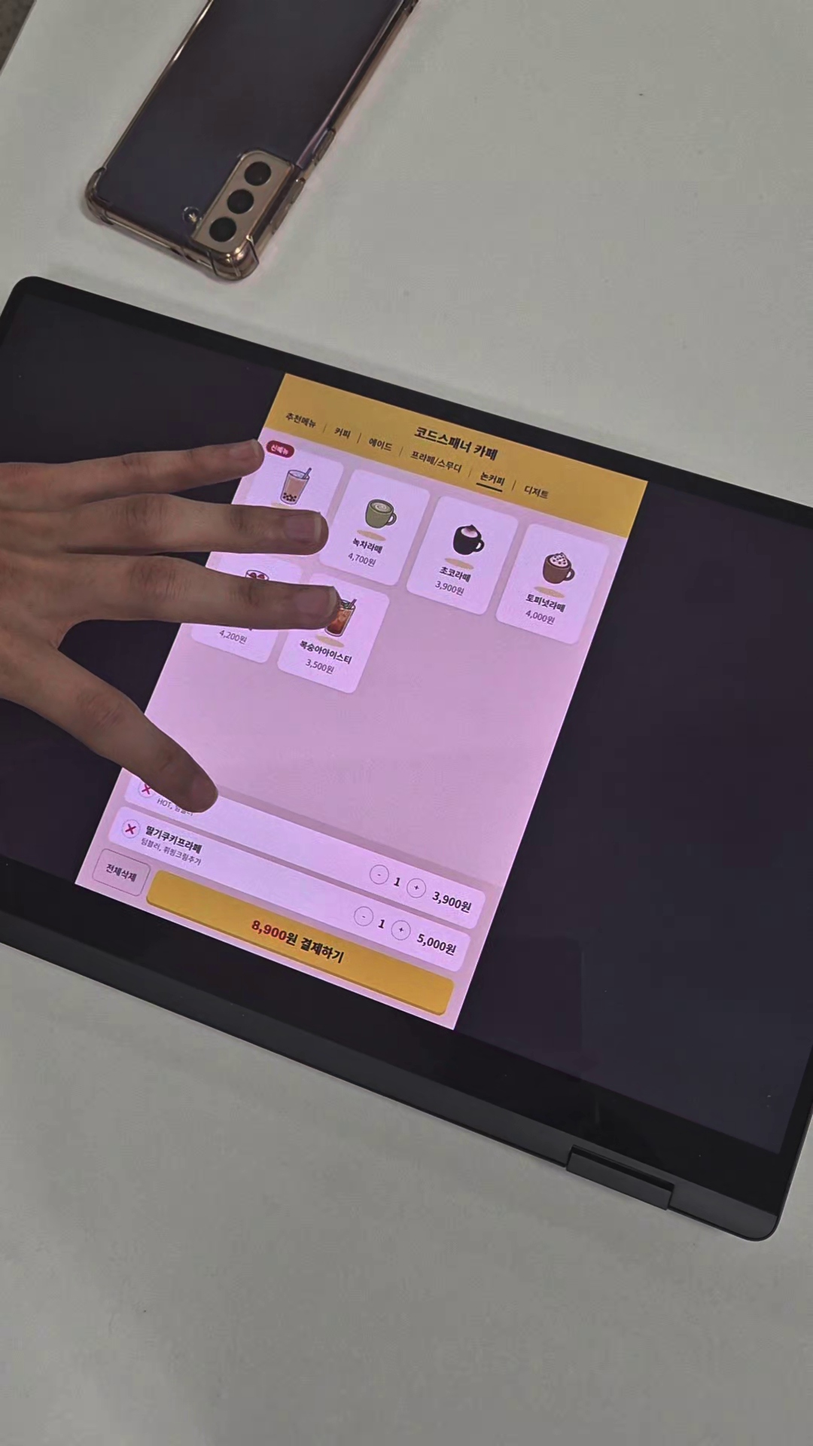action_button: (141, 868, 457, 1020), (91, 847, 151, 897)
cart_item: (101, 801, 473, 976)
category_tab: (406, 448, 465, 478), (276, 404, 323, 436), (475, 468, 509, 490), (363, 433, 396, 455), (521, 482, 552, 503), (327, 423, 355, 443)
menu_back: (492, 520, 612, 651), (272, 570, 394, 698), (401, 494, 522, 618), (316, 465, 433, 590)
menu_name: (297, 636, 358, 669), (522, 590, 571, 617), (435, 561, 476, 586), (349, 535, 385, 557)
menu_price: (410, 928, 460, 960), (429, 889, 475, 918), (431, 577, 468, 599), (302, 656, 338, 678), (521, 606, 558, 627), (344, 549, 378, 569), (215, 628, 249, 647)
